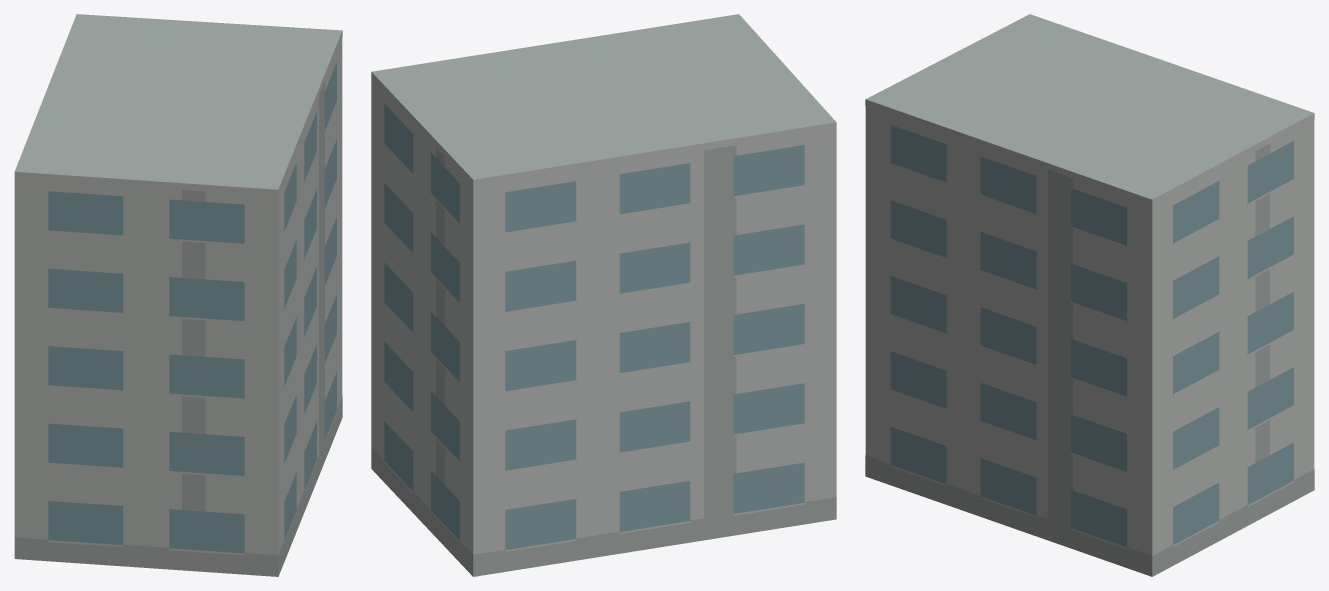
The model's file is survey-upis-32881772.glb.
3 renders of one model, left to right at view 1: azimuth 30°, elevation 25°; view 2: azimuth 150°, elevation 25°; view 3: azimuth 270°, elevation 25°, orthographic. The views are drawn at different scales.
Parts seen in each view (by area): view 1: survey-upis-32881772.tmp; view 2: survey-upis-32881772.tmp; view 3: survey-upis-32881772.tmp.
Boxes of the visible parts, x1,y1,x2,y2 form: survey-upis-32881772.tmp: (14, 14, 342, 576); survey-upis-32881772.tmp: (371, 14, 836, 576); survey-upis-32881772.tmp: (865, 14, 1314, 576).
Size of the model in its own units: 14.69 by 13.9 by 15.
